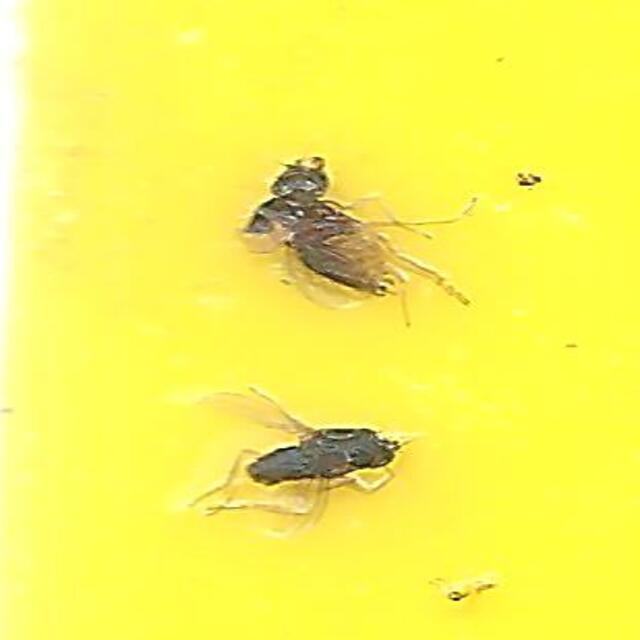Brachycera: (234, 151, 433, 302), (207, 383, 402, 489)
